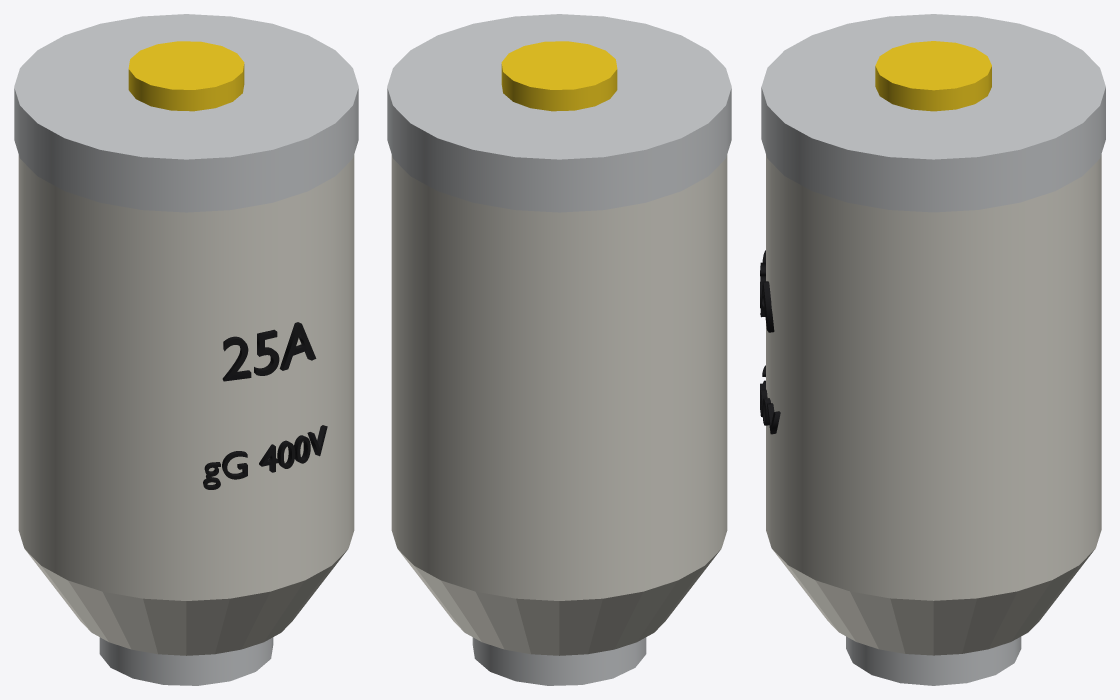
The model's file is fuse_d02_ok.glb.
The picture shows the model from 3 angles, left to right: view 1: azimuth 30°, elevation 25°; view 2: azimuth 150°, elevation 25°; view 3: azimuth 270°, elevation 25°; orthographic projection.
Parts seen in each view (by area): view 1: fuse_d02_ok_Body, fuse_d02_ok_Txt_Type, fuse_d02_ok_Txt_Rating; view 2: fuse_d02_ok_Body; view 3: fuse_d02_ok_Body, fuse_d02_ok_Txt_Rating, fuse_d02_ok_Txt_Type.
Boxes of the visible parts, box(x1,y1,x2,y2) form: fuse_d02_ok_Body: box(14, 14, 358, 685); fuse_d02_ok_Txt_Type: box(203, 425, 327, 489); fuse_d02_ok_Txt_Rating: box(222, 322, 316, 381); fuse_d02_ok_Body: box(387, 14, 731, 685); fuse_d02_ok_Body: box(761, 14, 1105, 685); fuse_d02_ok_Txt_Rating: box(760, 250, 774, 332); fuse_d02_ok_Txt_Type: box(760, 365, 780, 434).
Size of the model in its own units: 0.0236 by 0.0441 by 0.0237.
